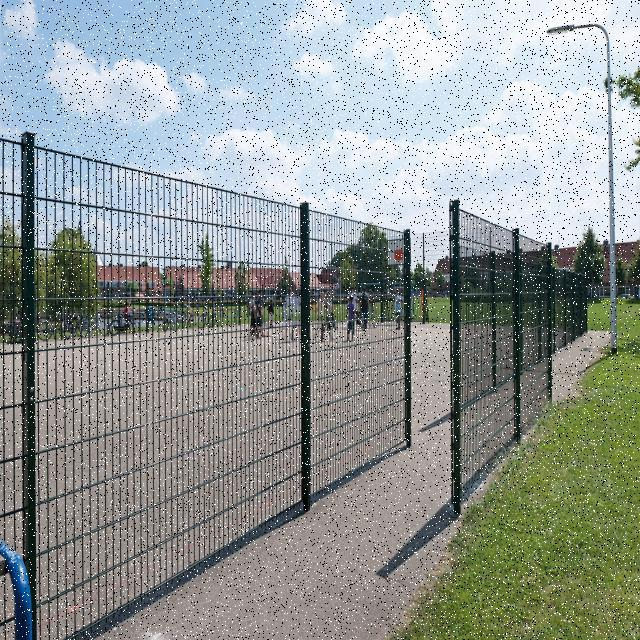fence line: (5, 136, 308, 584), (287, 220, 413, 508), (440, 214, 562, 478), (546, 274, 591, 344)
